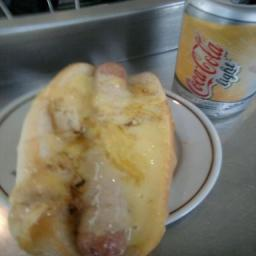hotdog: (78, 60, 137, 256)
